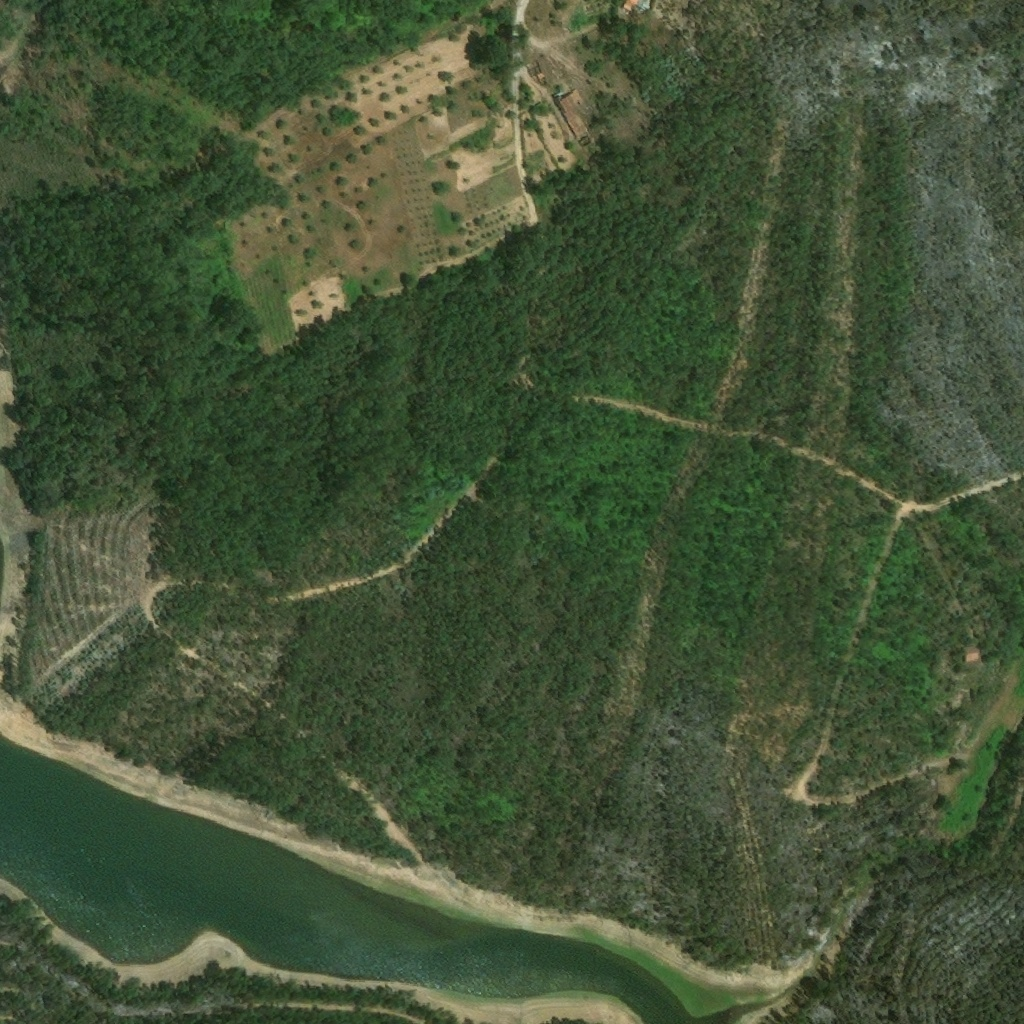0 no-damage: (555, 86, 602, 147), (966, 649, 982, 661)
4 un-classified: (621, 0, 648, 17)
